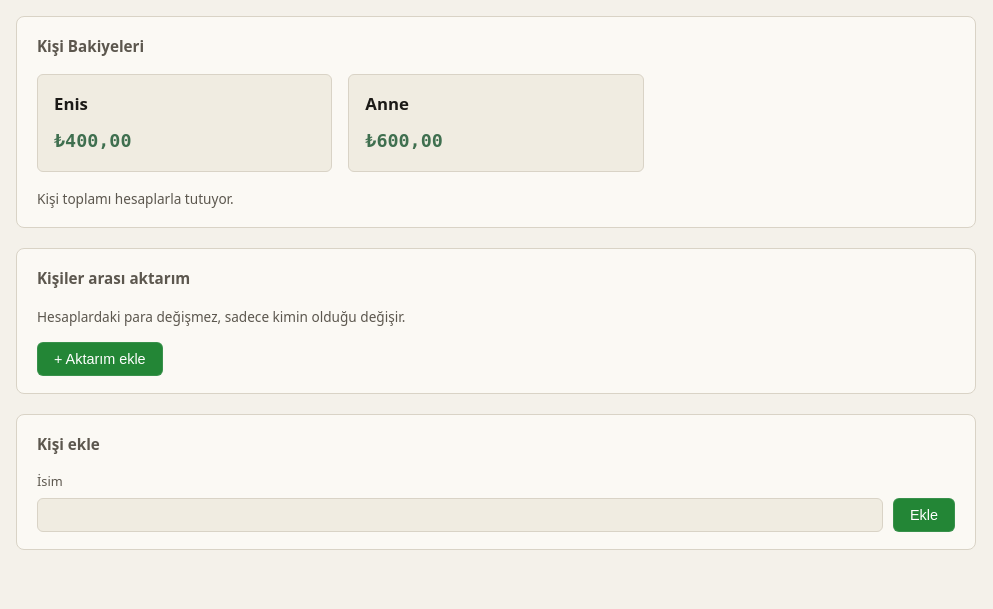
Kişiler sayfası › var olan kişiyi tekrar eklemez
Type "anne" into the field with id "yeni-kisi" at (460, 515), box [37,498,883,532]
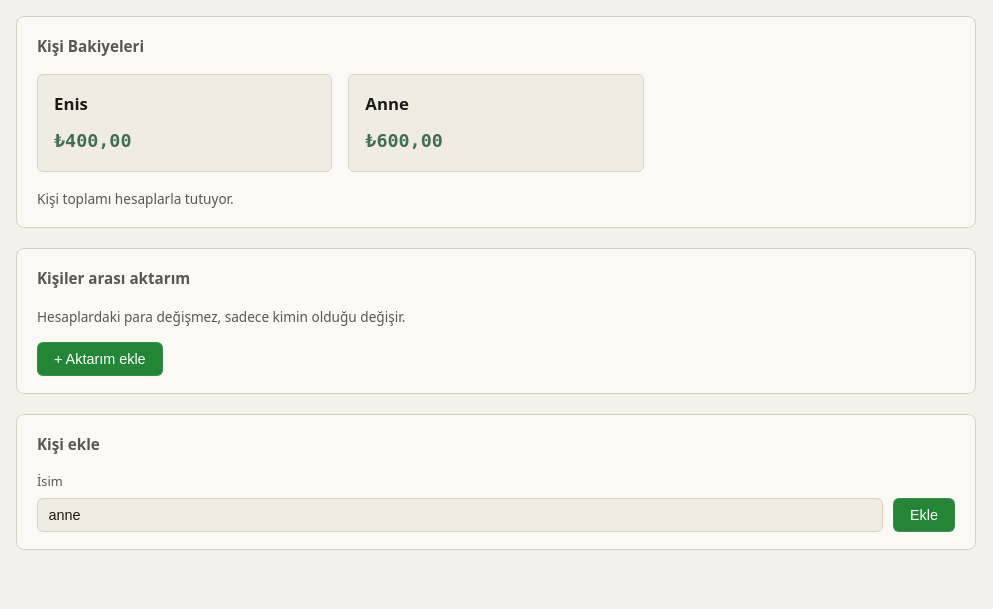
Click the button "Ekle" at (924, 515), box [893,498,955,532]
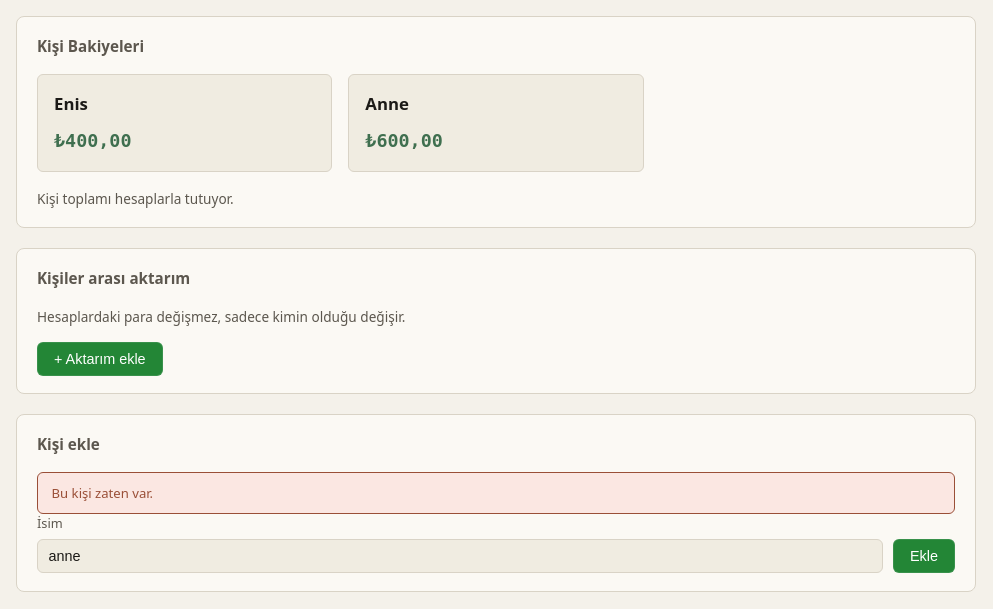
Expected: the text "zaten var" is shown, [52,484,153,502]
